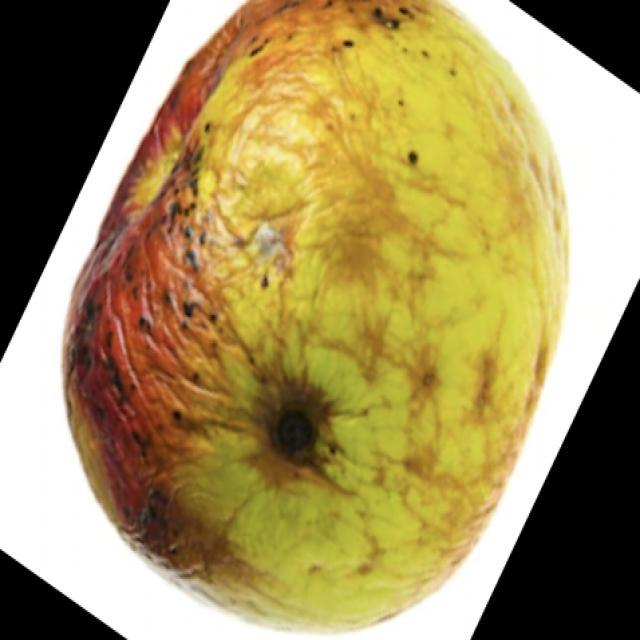Rotten: (55, 0, 575, 640)
